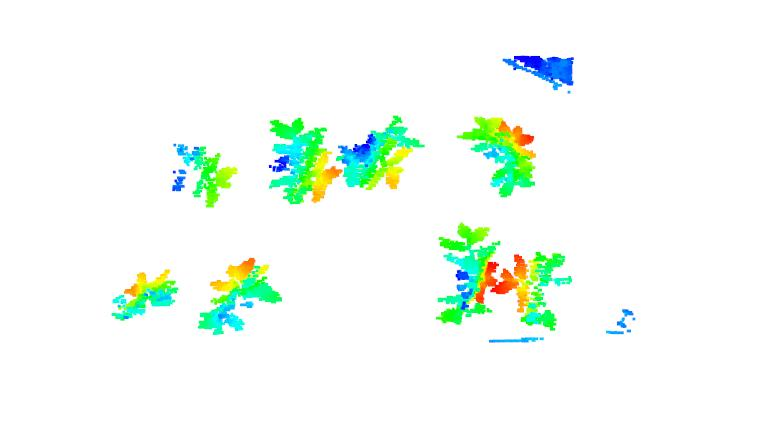chickpea: (335, 114, 428, 194), (196, 256, 283, 336), (456, 112, 534, 200), (266, 109, 339, 203), (437, 219, 496, 327), (511, 245, 574, 333), (167, 136, 237, 211), (107, 266, 182, 323)
